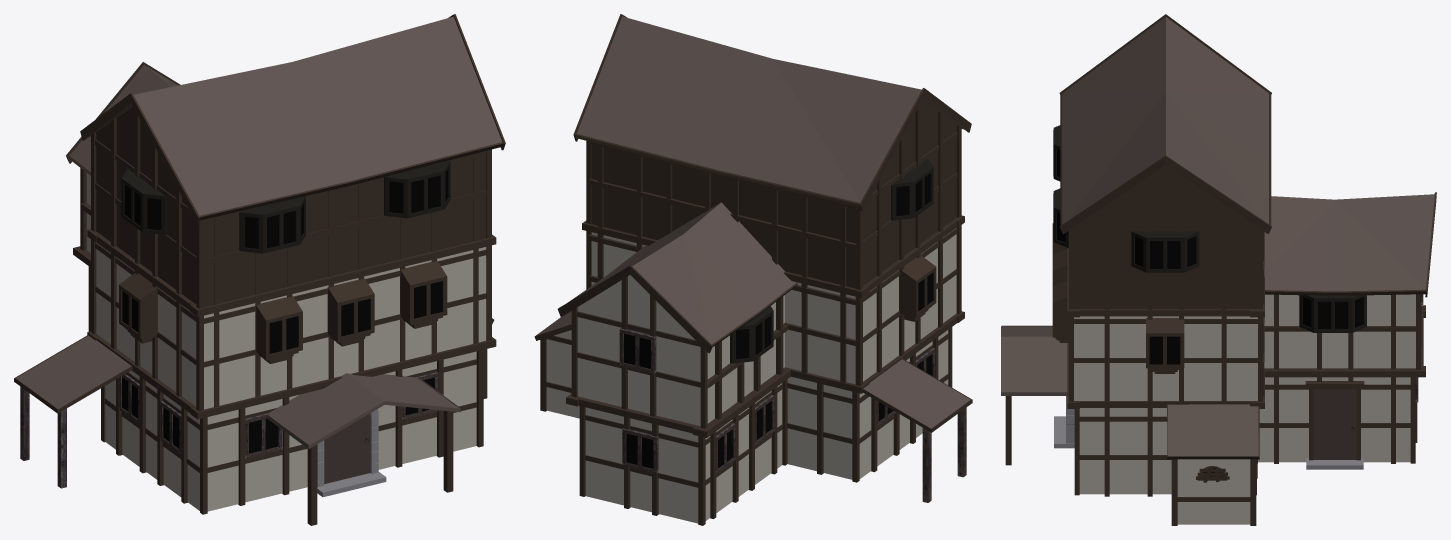
The model's file is House_Cap_4.glb.
3 renders of one model, left to right at view 1: azimuth 30°, elevation 25°; view 2: azimuth 150°, elevation 25°; view 3: azimuth 270°, elevation 25°, orthographic. The views are drawn at different scales.
Visible parts, largest first — view 1: House_Cap_4; view 2: House_Cap_4; view 3: House_Cap_4.
Boxes of the visible parts, left/top/right/bottom form: House_Cap_4: left=14, top=14, right=505, bottom=525; House_Cap_4: left=534, top=14, right=972, bottom=525; House_Cap_4: left=1001, top=14, right=1436, bottom=525.
Size of the model in its own units: 8.53 by 7.55 by 8.41.
27 materials, 27 textured.
